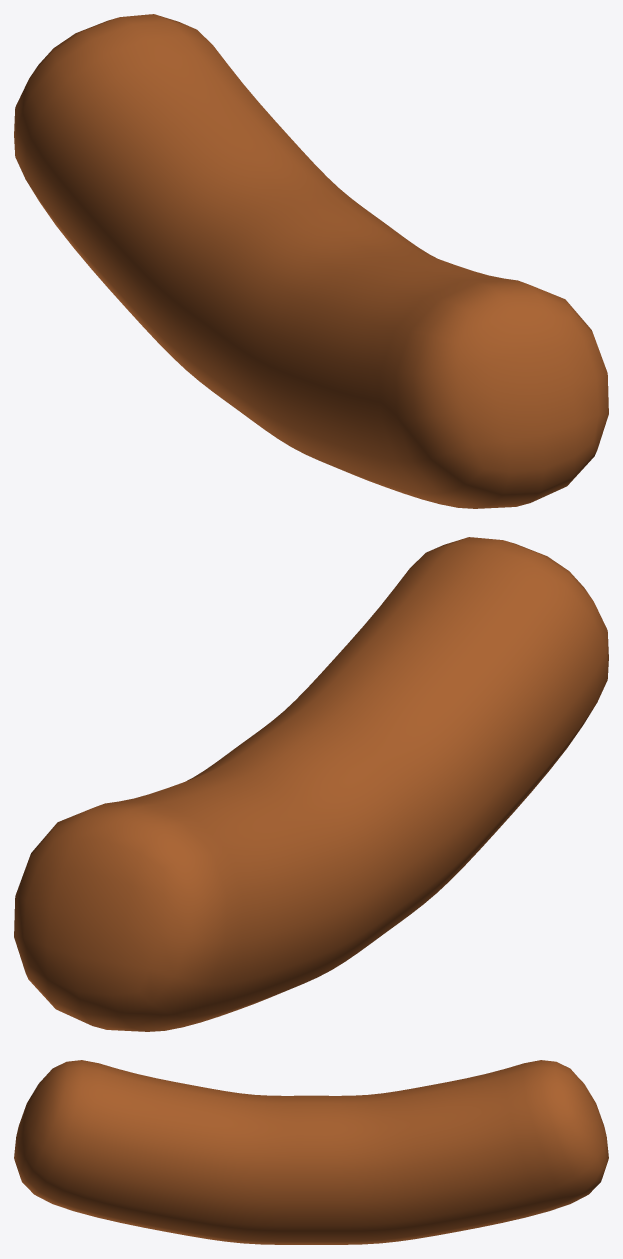
Rendered from Sausage01.fbx.
3 renders of one model, top to bottom at view 1: azimuth 30°, elevation 25°; view 2: azimuth 150°, elevation 25°; view 3: azimuth 270°, elevation 25°, orthographic. The views are drawn at different scales.
Visible parts, largest first — view 1: Sausage01; view 2: Sausage01; view 3: Sausage01.
Boxes of the visible parts, <box> form: Sausage01: <box>14,14,608,508</box>; Sausage01: <box>14,537,608,1031</box>; Sausage01: <box>14,1060,608,1244</box>.
Size of the model in its own units: 73.52 by 93.17 by 297.
